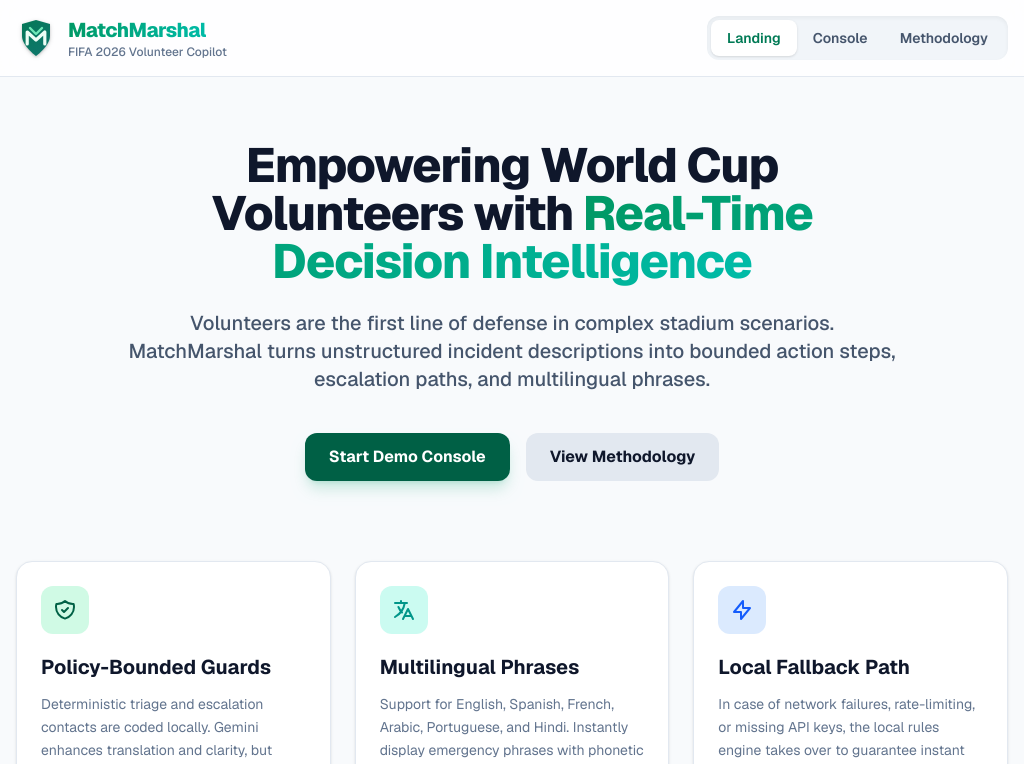
Test: MatchMarshal App Layout & Navigation › navigates to Volunteer Console when clicking CTA button
The width and height of the screenshot is (1024, 764).
Click the button "Start Demo Console" at (407, 457), box [305, 433, 510, 481]
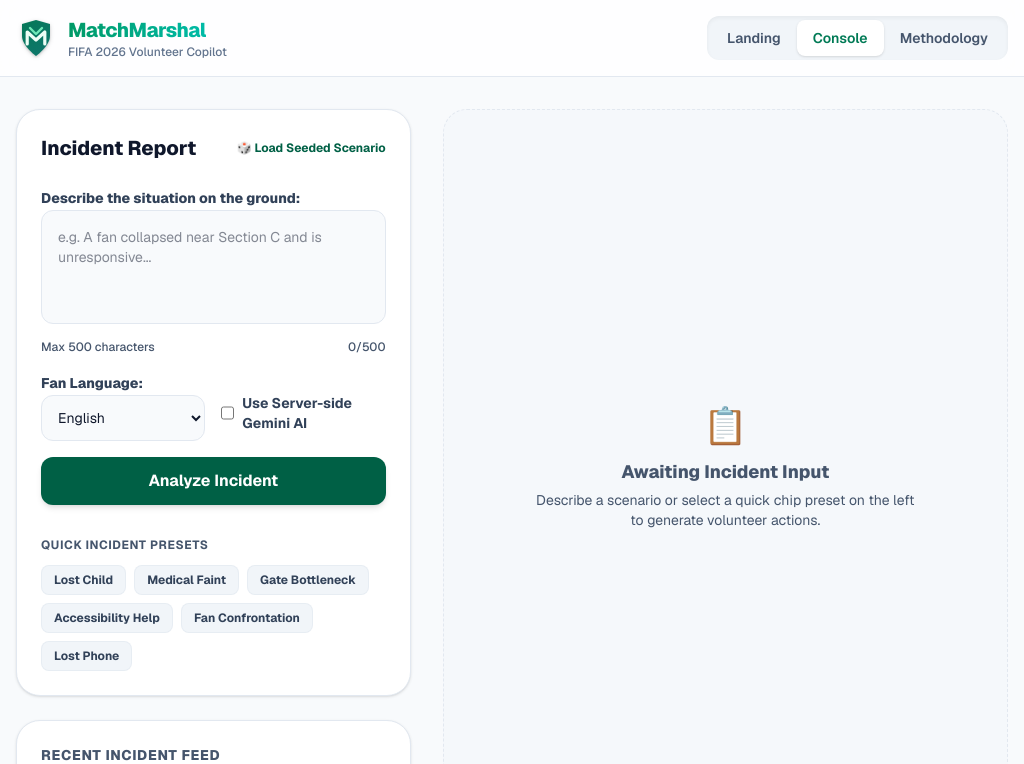
Now the text box labelled "Describe the situation on the ground:" is shown, box [41, 210, 386, 324]
